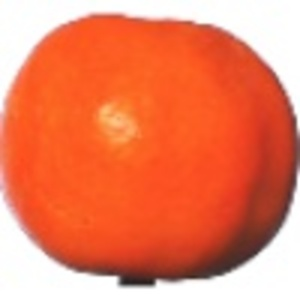tangerina: (1, 13, 300, 287)
